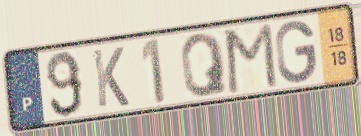1: (140, 35, 168, 108)
9: (44, 49, 85, 120)
G: (273, 18, 318, 86)
K: (90, 45, 131, 111)
M: (224, 20, 280, 96)
Q: (178, 31, 230, 100)
